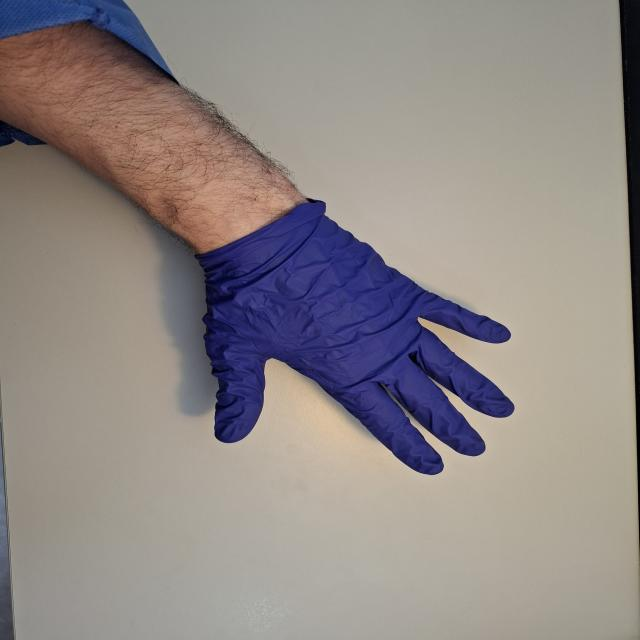glove_on: (201, 198, 518, 477)
